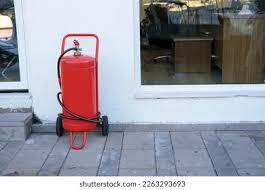floor-kept: (45, 31, 116, 150)
